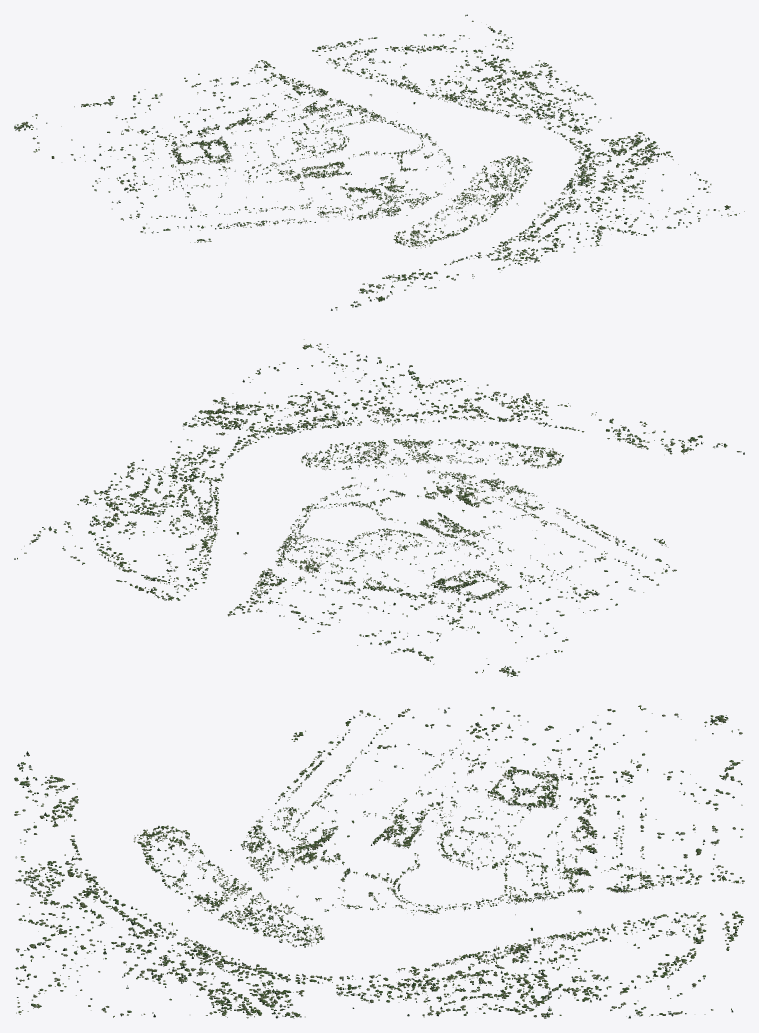
Rendered from waca_backdrop_part2.glb.
3 views of the same model, one above another, from view 1: azimuth 30°, elevation 25°; view 2: azimuth 150°, elevation 25°; view 3: azimuth 270°, elevation 25° (orthographic). The views are drawn at different scales.
Visible parts, largest first — view 1: bg_trees_joined_s12, bg_trees_joined_s11, bg_trees_joined_s10, bg_trees_joined_s13, bg_trees_joined_s14, bg_trees_joined_s15, bg_trees_joined_s09, bg_trees_joined_s01, bg_trees_joined_s07, bg_trees_joined_s02; view 2: bg_trees_joined_s11, bg_trees_joined_s12, bg_trees_joined_s10, bg_trees_joined_s13, bg_trees_joined_s14, bg_trees_joined_s15, bg_trees_joined_s09, bg_trees_joined_s01, bg_trees_joined_s07, bg_trees_joined_s02; view 3: bg_trees_joined_s11, bg_trees_joined_s12, bg_trees_joined_s10, bg_trees_joined_s13, bg_trees_joined_s14, bg_trees_joined_s15, bg_trees_joined_s09, bg_trees_joined_s01, bg_trees_joined_s07, bg_trees_joined_s02, bg_trees_joined_s06, bg_trees_joined_s05 (+3 smaller).
Boxes of the visible parts, x1,y1,x2,y2 form: bg_trees_joined_s12: (414,20,596,126); bg_trees_joined_s11: (497,116,730,207); bg_trees_joined_s10: (436,183,744,265); bg_trees_joined_s13: (249,14,467,117); bg_trees_joined_s14: (14,73,303,152); bg_trees_joined_s15: (14,127,245,220); bg_trees_joined_s09: (331,214,504,310); bg_trees_joined_s01: (343,176,418,220); bg_trees_joined_s07: (244,153,344,183); bg_trees_joined_s02: (387,167,493,216); bg_trees_joined_s11: (170,345,371,468); bg_trees_joined_s12: (21,457,238,553); bg_trees_joined_s10: (304,339,548,462); bg_trees_joined_s13: (14,532,335,616); bg_trees_joined_s14: (279,564,514,676); bg_trees_joined_s15: (452,544,658,676); bg_trees_joined_s09: (480,403,744,468); bg_trees_joined_s01: (426,463,536,504); bg_trees_joined_s07: (419,517,511,566); bg_trees_joined_s02: (376,452,478,497); bg_trees_joined_s11: (33,915,379,1018); bg_trees_joined_s12: (379,927,713,1018); bg_trees_joined_s10: (15,861,256,1014); bg_trees_joined_s13: (515,861,744,1012); bg_trees_joined_s14: (503,715,743,863); bg_trees_joined_s15: (379,705,723,805); bg_trees_joined_s09: (14,751,209,865); bg_trees_joined_s01: (209,816,340,864); bg_trees_joined_s07: (379,790,499,848); bg_trees_joined_s02: (209,858,350,913); bg_trees_joined_s06: (408,812,544,860); bg_trees_joined_s05: (407,858,548,906).
Bounding box in the file's own units: 3009 × 76.05 × 3008.
1 material, 1 textured.
